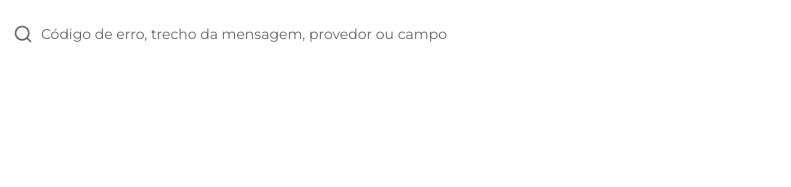
Test case: BuscaHeroComPreview › busca sem resultado diz que o acervo não cobre o termo — e isso não é erro
The width and height of the screenshot is (791, 187).
Type "xyz" into the search field at (398, 34), box [41,13,755,55]
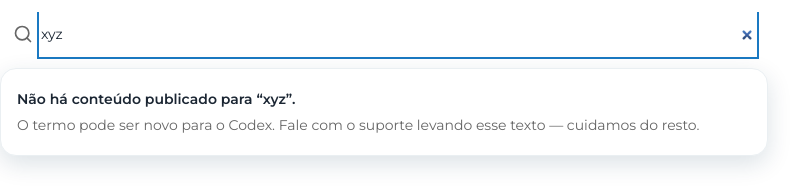
Result: the text "Não há conteúdo publicado para “xyz”." is shown at [17,90,295,108]
